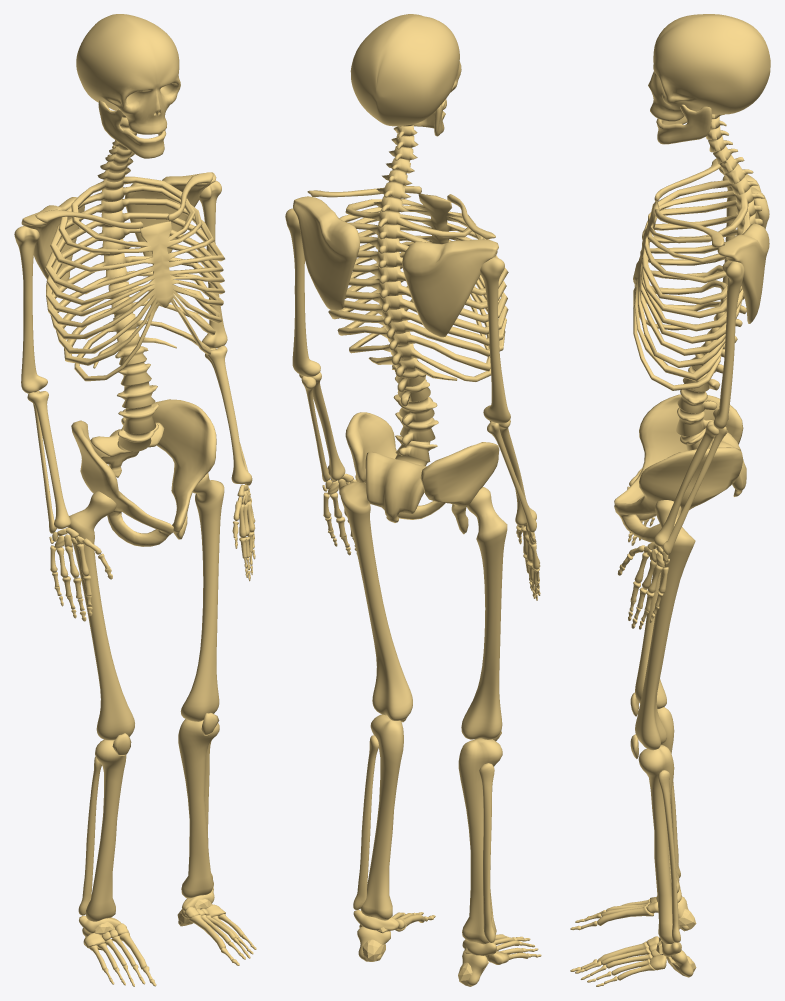
The model's file is skelington_allbones.fbx.
The picture shows the model from 3 angles, left to right: view 1: azimuth 30°, elevation 25°; view 2: azimuth 150°, elevation 25°; view 3: azimuth 270°, elevation 25°; orthographic projection. The views are drawn at different scales.
Parts seen in each view (by area): view 1: rib cage, thighs, head, hips, caff1, bicep, sholderblades, forarm1, hand, caff 2, hand.002, jaw (+6 smaller); view 2: rib cage, thighs, sholderblades, head, caff1, hips, bicep, caff 2, tail bone, forarm1, forarm2, hand (+5 smaller); view 3: rib cage, head, hips, thighs, caff1, sholderblades, bicep, caff 2, jaw, forarm1, hand, coller bone (+6 smaller).
Boxes of the visible parts, <box> form: rib cage: <box>45,113,224,451</box>; thighs: <box>67,473,224,740</box>; head: <box>76,14,180,134</box>; hips: <box>71,399,216,546</box>; caff1: <box>85,719,219,921</box>; bicep: <box>14,180,227,393</box>; sholderblades: <box>21,172,216,286</box>; forarm1: <box>27,345,252,528</box>; hand: <box>49,485,255,610</box>; caff 2: <box>78,741,212,915</box>; hand.002: <box>52,488,255,621</box>; jaw: <box>98,100,166,158</box>; rib cage: <box>328,124,508,465</box>; thighs: <box>339,481,507,739</box>; sholderblades: <box>293,196,498,337</box>; head: <box>350,14,461,126</box>; caff1: <box>360,714,502,944</box>; hips: <box>345,412,499,534</box>; bicep: <box>285,208,510,423</box>; caff 2: <box>353,735,495,942</box>; tail bone: <box>365,452,426,522</box>; forarm1: <box>299,372,536,525</box>; forarm2: <box>301,376,536,532</box>; hand: <box>322,473,540,594</box>; rib cage: <box>633,114,764,450</box>; head: <box>648,14,770,121</box>; hips: <box>614,394,743,542</box>; thighs: <box>635,500,695,750</box>; caff1: <box>638,707,679,943</box>; sholderblades: <box>717,167,769,323</box>; bicep: <box>713,176,744,429</box>; caff 2: <box>658,770,680,942</box>; jaw: <box>656,104,711,144</box>; forarm1: <box>654,331,719,546</box>; hand: <box>617,468,669,622</box>; coller bone: <box>654,158,724,247</box>.
Size of the model in its own units: 97.22 by 412 by 79.91.
